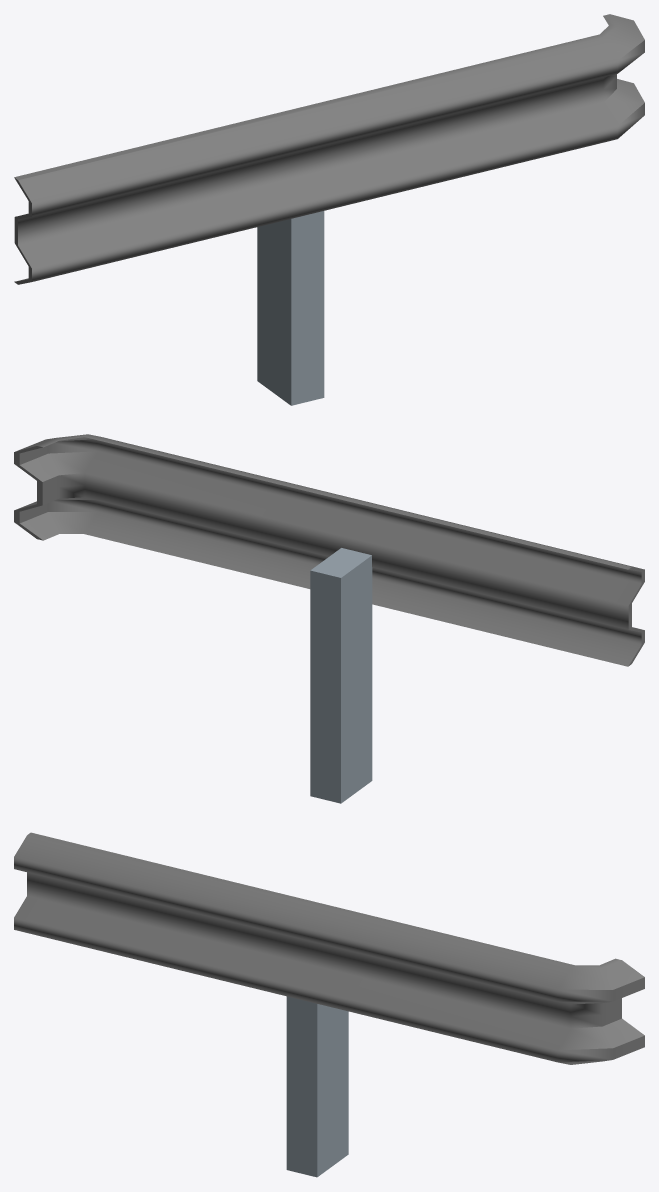
Rendered from GuardRail_Right.fbx.
3 views of the same model, one above another, from view 1: azimuth 30°, elevation 25°; view 2: azimuth 150°, elevation 25°; view 3: azimuth 330°, elevation 25° (orthographic). The views are drawn at different scales.
Parts seen in each view (by area): view 1: endrail1; view 2: endrail1; view 3: endrail1.
Part boxes in pixels (x1,y1,x2,y2): endrail1: (14,14,644,405); endrail1: (14,434,644,803); endrail1: (14,832,644,1177).
Bounding box in the file's own units: 252 × 111 × 34.76.
